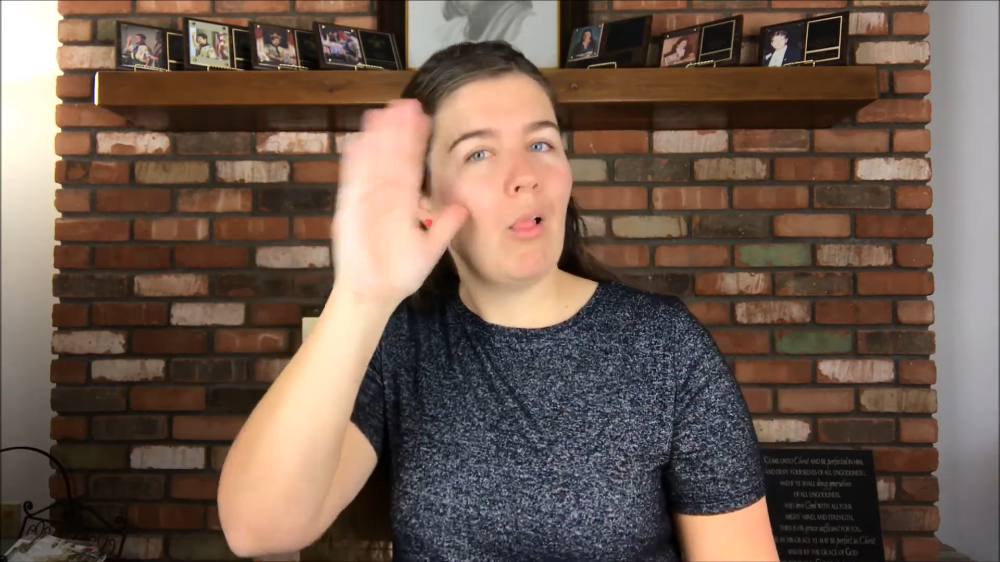hello: (330, 93, 468, 311)
